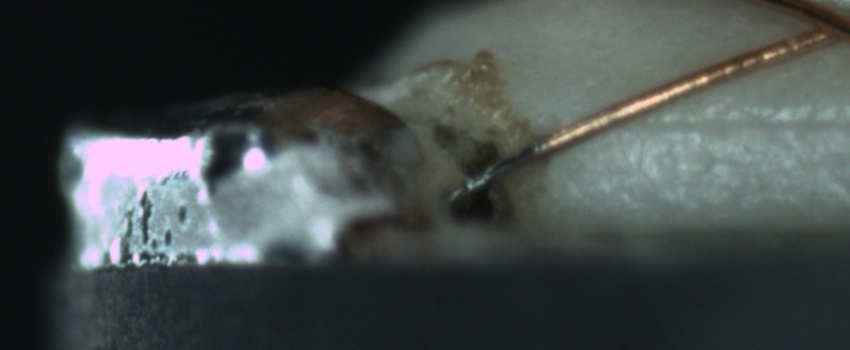CL: (778, 4, 849, 54)
DL: (613, 90, 845, 159)
TS: (451, 139, 544, 201)
